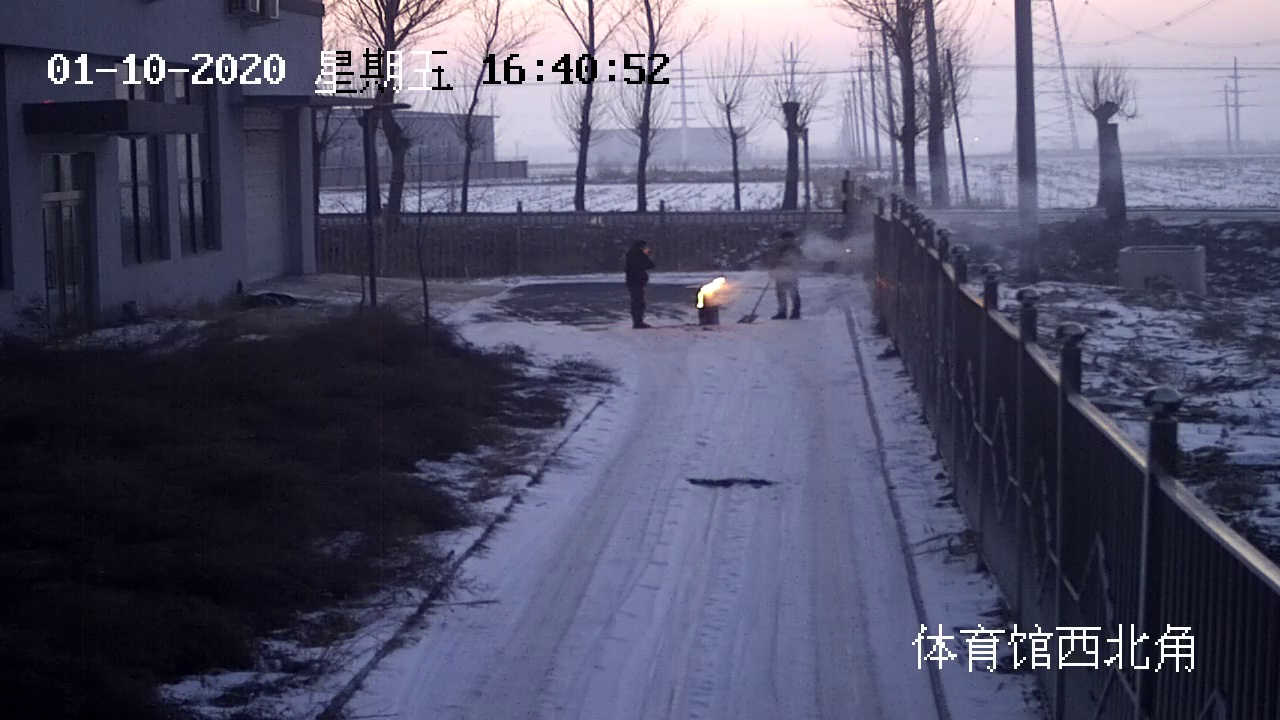fire: (691, 273, 730, 307)
